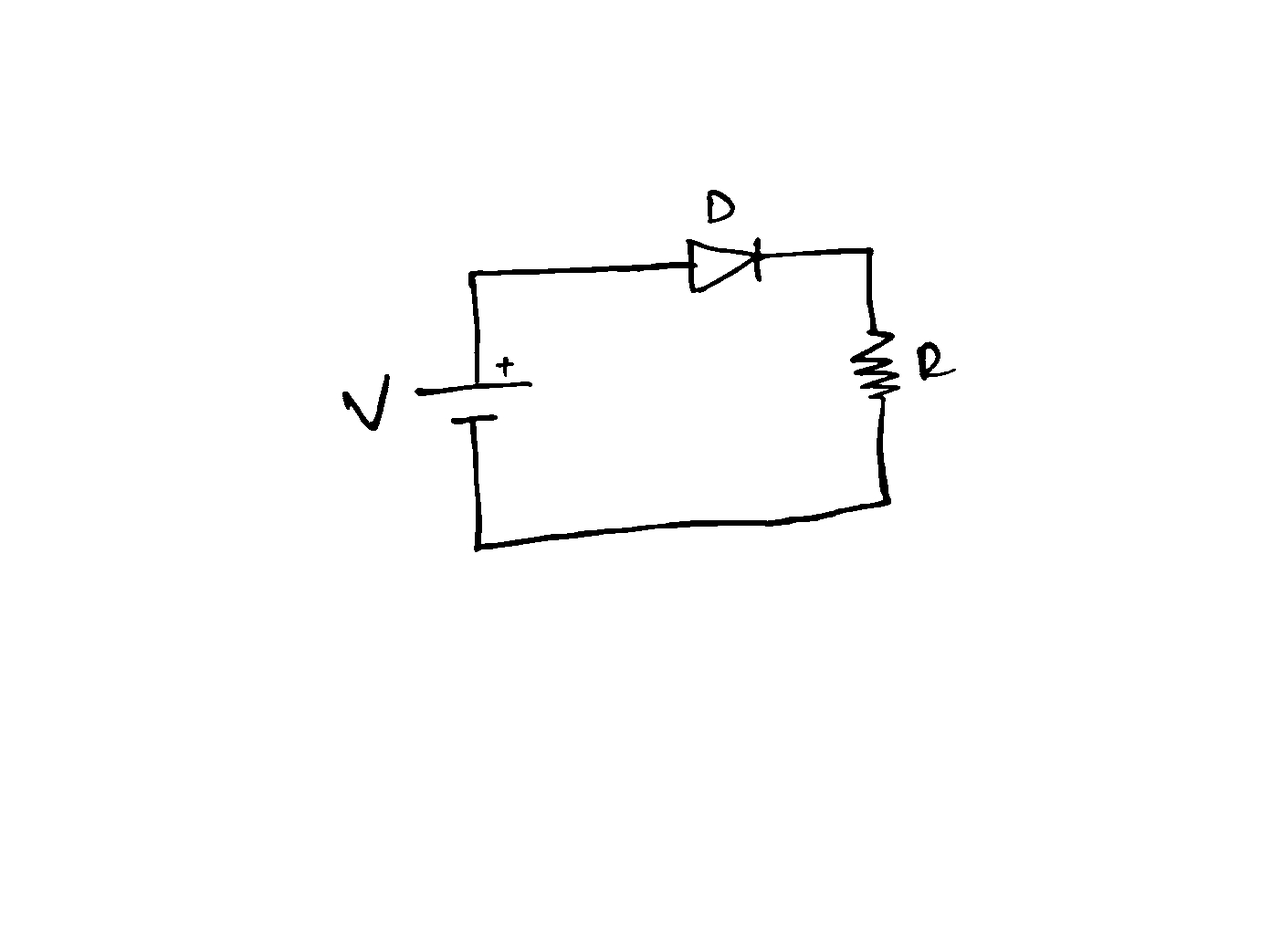diode: (685, 235, 764, 294)
junction: (857, 242, 879, 264), (469, 537, 488, 557), (464, 265, 483, 283), (877, 494, 897, 511)
resistor: (847, 325, 904, 404)
text: (341, 371, 393, 433), (915, 340, 958, 383), (702, 184, 737, 233)
voltage.battery: (415, 354, 534, 430)
